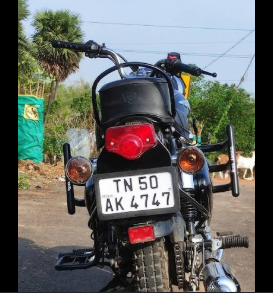licence: (95, 171, 177, 217)
